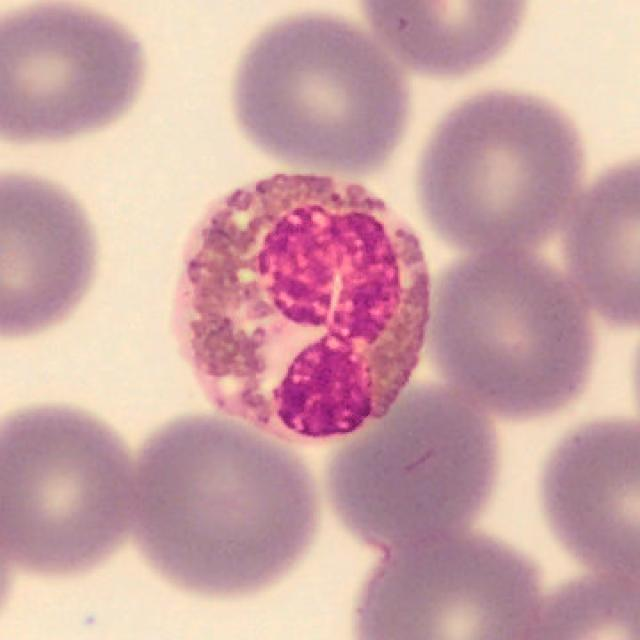Eosinofilo: (171, 174, 432, 441)
